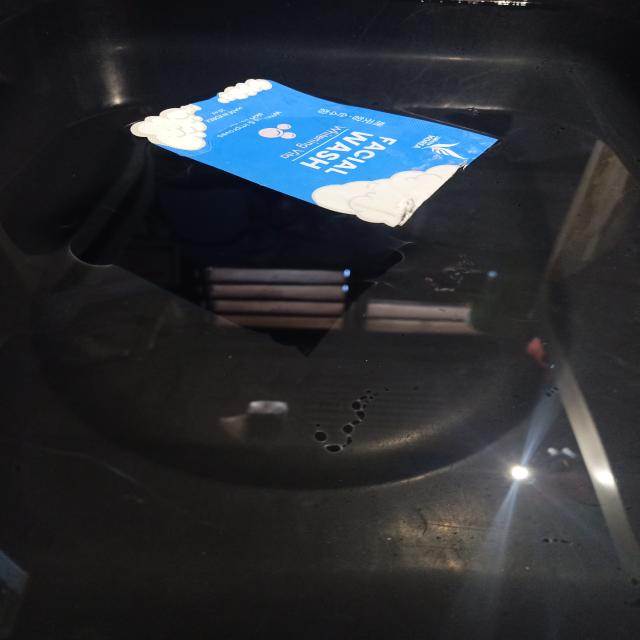Plastic Wrapper: (131, 79, 496, 227)
